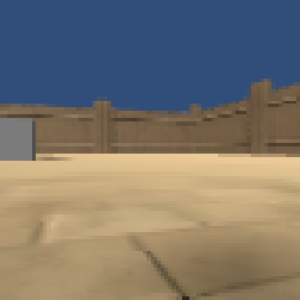wall: (1, 117, 36, 161)
